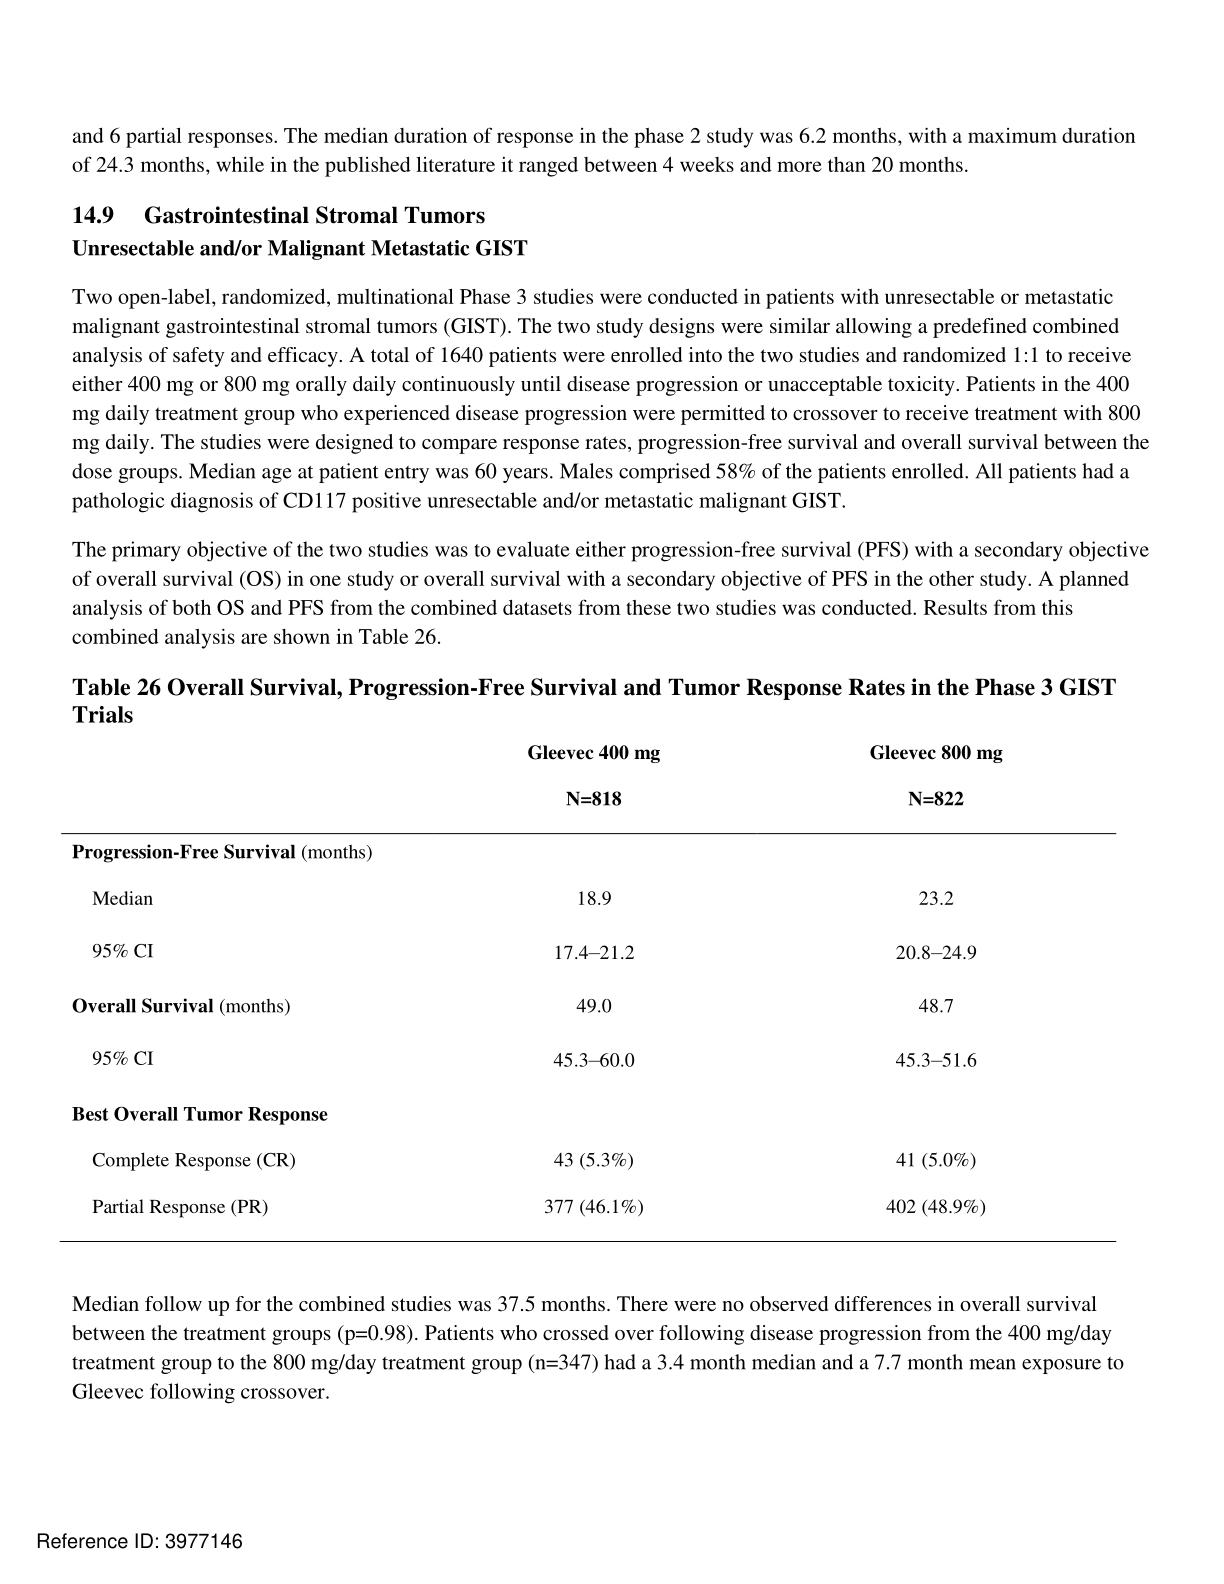partial_lined: (60, 737, 1120, 1245)
